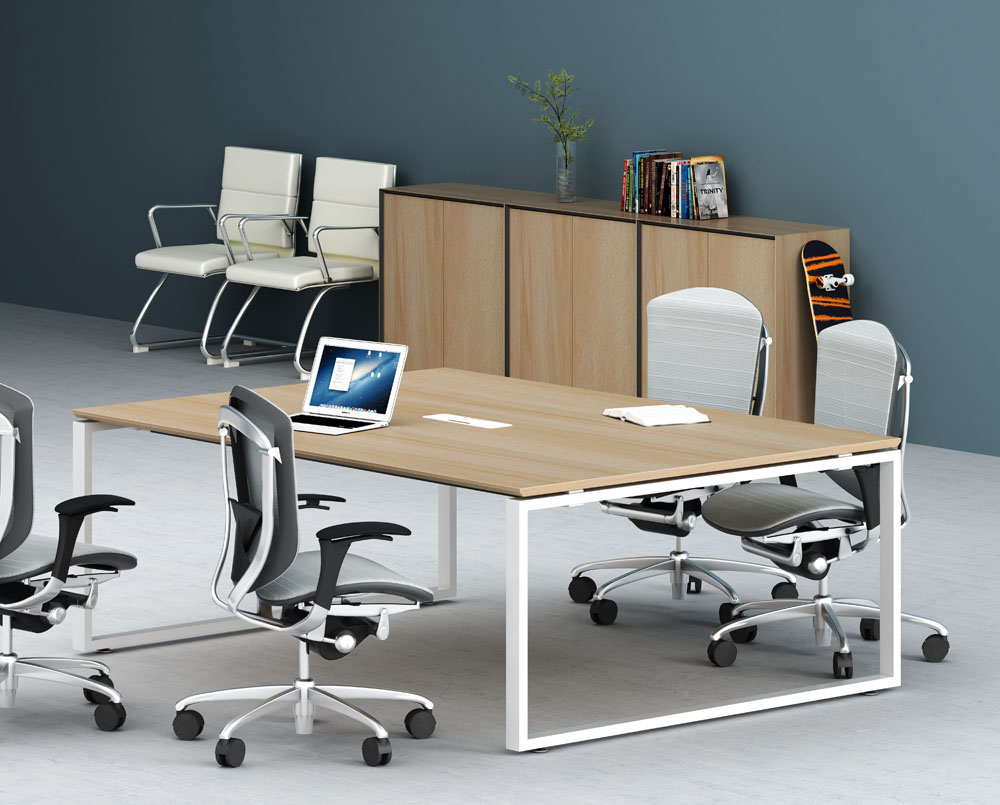conference_table: (70, 365, 902, 751)
